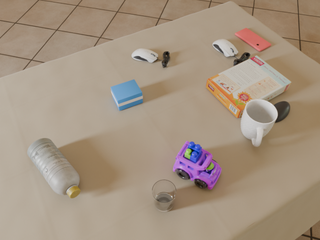bottle: (28, 138, 80, 198)
box: (206, 56, 291, 118), (111, 80, 143, 111)
cup: (241, 99, 278, 147), (152, 180, 176, 212)
mouse: (213, 39, 238, 57), (132, 49, 158, 62), (274, 101, 290, 122)
phone: (235, 28, 271, 51)
toy_car: (173, 141, 221, 189)
